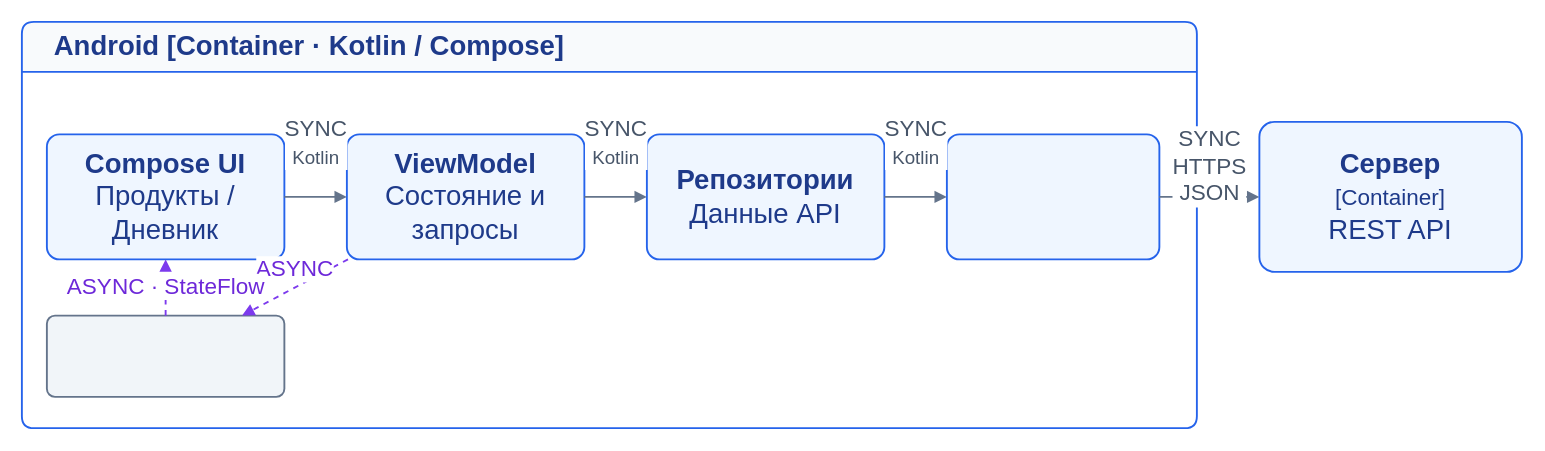
Some shapes in this 1545 by 451 pixel diagram are drawn without their labels. Here are the shapes that lost their labels. From the top down, the centre of each, then its label:
(x=1052, y=196): Retrofit OkHttp
(x=165, y=355): uiState StateFlow
